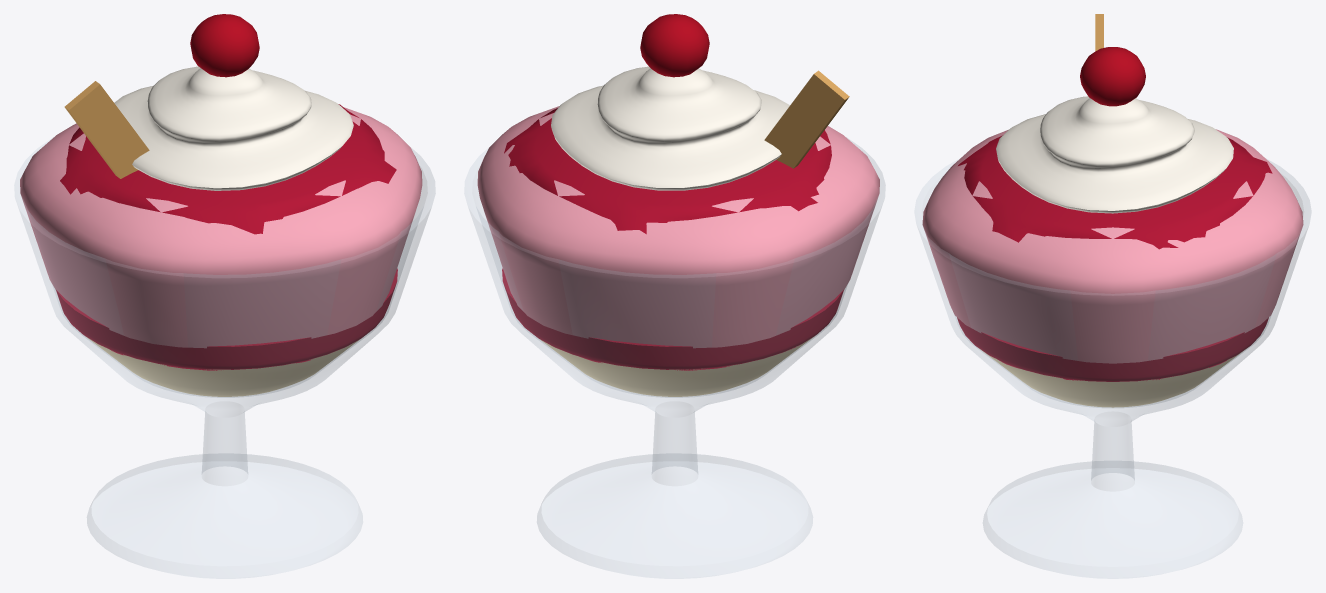
Rendered from sundae-morango.glb.
3 views of the same model, side by side, from view 1: azimuth 30°, elevation 25°; view 2: azimuth 150°, elevation 25°; view 3: azimuth 270°, elevation 25° (orthographic). The views are drawn at different scales.
Visible parts, largest first — view 1: sundae-morango; view 2: sundae-morango; view 3: sundae-morango.
Part boxes in pixels (x1=…): sundae-morango: x1=14, y1=14, x2=435, y2=578; sundae-morango: x1=464, y1=14, x2=885, y2=578; sundae-morango: x1=914, y1=14, x2=1311, y2=578.
Size of the model in its own units: 0.09 by 0.12 by 0.09.
